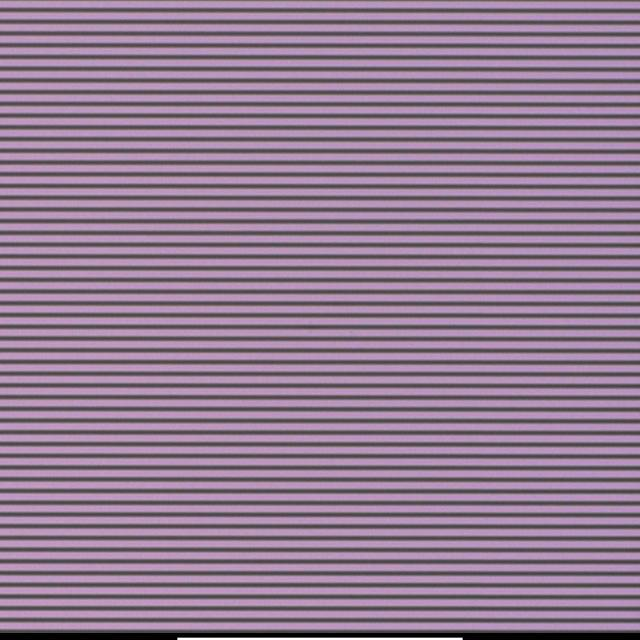nonvisual: (349, 329, 356, 336)
